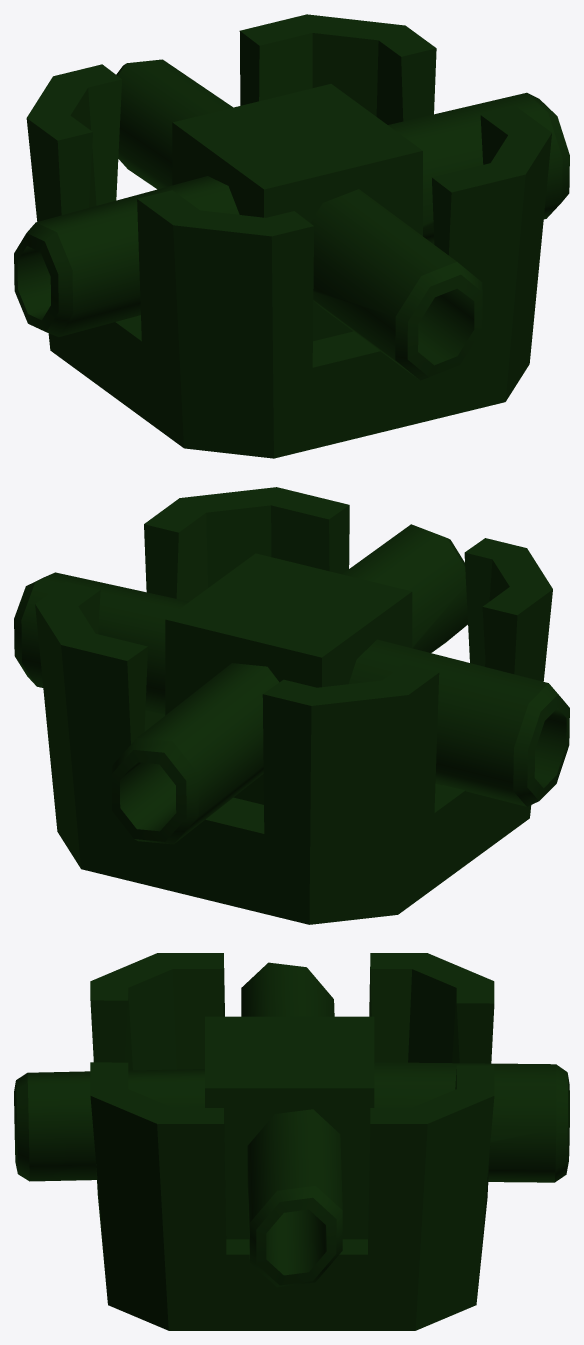
Rendered from square-top-3.fbx.
3 views of the same model, one above another, from view 1: azimuth 30°, elevation 25°; view 2: azimuth 150°, elevation 25°; view 3: azimuth 270°, elevation 25° (orthographic). The views are drawn at different scales.
Visible parts, largest first — view 1: square-top-3; view 2: square-top-3; view 3: square-top-3.
Boxes of the visible parts, bbox=[...] form: square-top-3: bbox=[14, 14, 569, 458]; square-top-3: bbox=[14, 487, 569, 924]; square-top-3: bbox=[14, 953, 569, 1330].
Bounding box in the file's own units: 3.74 × 1.59 × 3.74.
